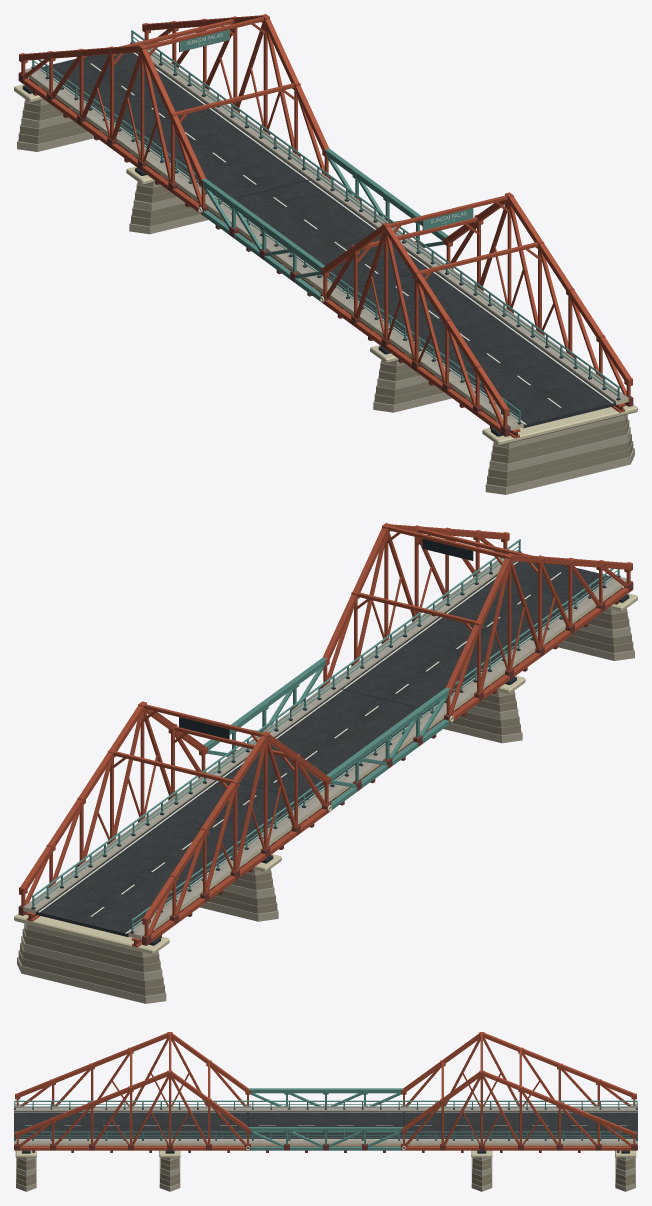
3 renders of one model, top to bottom at view 1: azimuth 30°, elevation 25°; view 2: azimuth 150°, elevation 25°; view 3: azimuth 270°, elevation 25°, orthographic. The views are drawn at different scales.
Visible parts, largest first — view 1: Carriageway, Masonry cutwater piers, Sidewalk flags, Upper rolled chords, Panel diagonals, Verticals, Continuous handrails, Lower rolled chords, Portal top ties, Pier caps, Rail stanchions, Upper panel gussets (+4 smaller); view 2: Carriageway, Masonry cutwater piers, Sidewalk flags, Upper rolled chords, Panel diagonals, Verticals, Continuous handrails, Lower rolled chords, Portal top ties, Pier caps, Rail stanchions, Upper panel gussets (+4 smaller); view 3: Carriageway, Upper rolled chords, Sidewalk flags, Panel diagonals, Continuous handrails, Masonry cutwater piers, Lower rolled chords, Verticals, Upper panel gussets, Edge paint, Longitudinal chord flanges, Rail stanchions (+4 smaller).
Boxes of the visible parts, <box> form: Carriageway: <box>40,52,615,428</box>; Masonry cutwater piers: <box>17,99,634,494</box>; Sidewalk flags: <box>25,42,628,430</box>; Upper rolled chords: <box>21,15,630,409</box>; Panel diagonals: <box>24,23,626,425</box>; Verticals: <box>21,25,630,427</box>; Continuous handrails: <box>33,30,619,420</box>; Lower rolled chords: <box>21,78,502,434</box>; Portal top ties: <box>118,17,538,274</box>; Pier caps: <box>14,84,637,445</box>; Rail stanchions: <box>31,32,620,424</box>; Upper panel gussets: <box>19,14,632,416</box>; Carriageway: <box>36,561,611,937</box>; Masonry cutwater piers: <box>17,608,634,1003</box>; Sidewalk flags: <box>23,551,626,939</box>; Upper rolled chords: <box>21,524,630,918</box>; Panel diagonals: <box>25,532,627,934</box>; Verticals: <box>21,534,630,936</box>; Continuous handrails: <box>32,539,618,929</box>; Lower rolled chords: <box>149,587,630,943</box>; Portal top ties: <box>113,526,533,783</box>; Pier caps: <box>14,593,637,954</box>; Rail stanchions: <box>31,541,620,933</box>; Upper panel gussets: <box>19,523,632,925</box>; Carriageway: <box>14,1111,637,1138</box>; Upper rolled chords: <box>17,1033,634,1135</box>; Sidewalk flags: <box>14,1106,637,1145</box>; Panel diagonals: <box>20,1038,631,1147</box>; Continuous handrails: <box>14,1100,637,1138</box>; Masonry cutwater piers: <box>16,1157,635,1191</box>; Lower rolled chords: <box>20,1146,631,1150</box>; Verticals: <box>16,1040,635,1144</box>; Upper panel gussets: <box>15,1032,636,1137</box>; Edge paint: <box>14,1112,637,1139</box>; Longitudinal chord flanges: <box>14,1145,637,1149</box>; Rail stanchions: <box>14,1102,637,1140</box>.
Bounding box in the file's own units: 11.32 × 13.2 × 64.03.
Materials: 13 (2 with a texture image).
